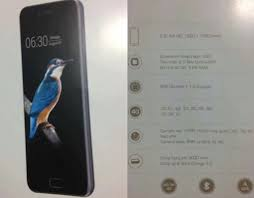bphone: (15, 1, 97, 198)
